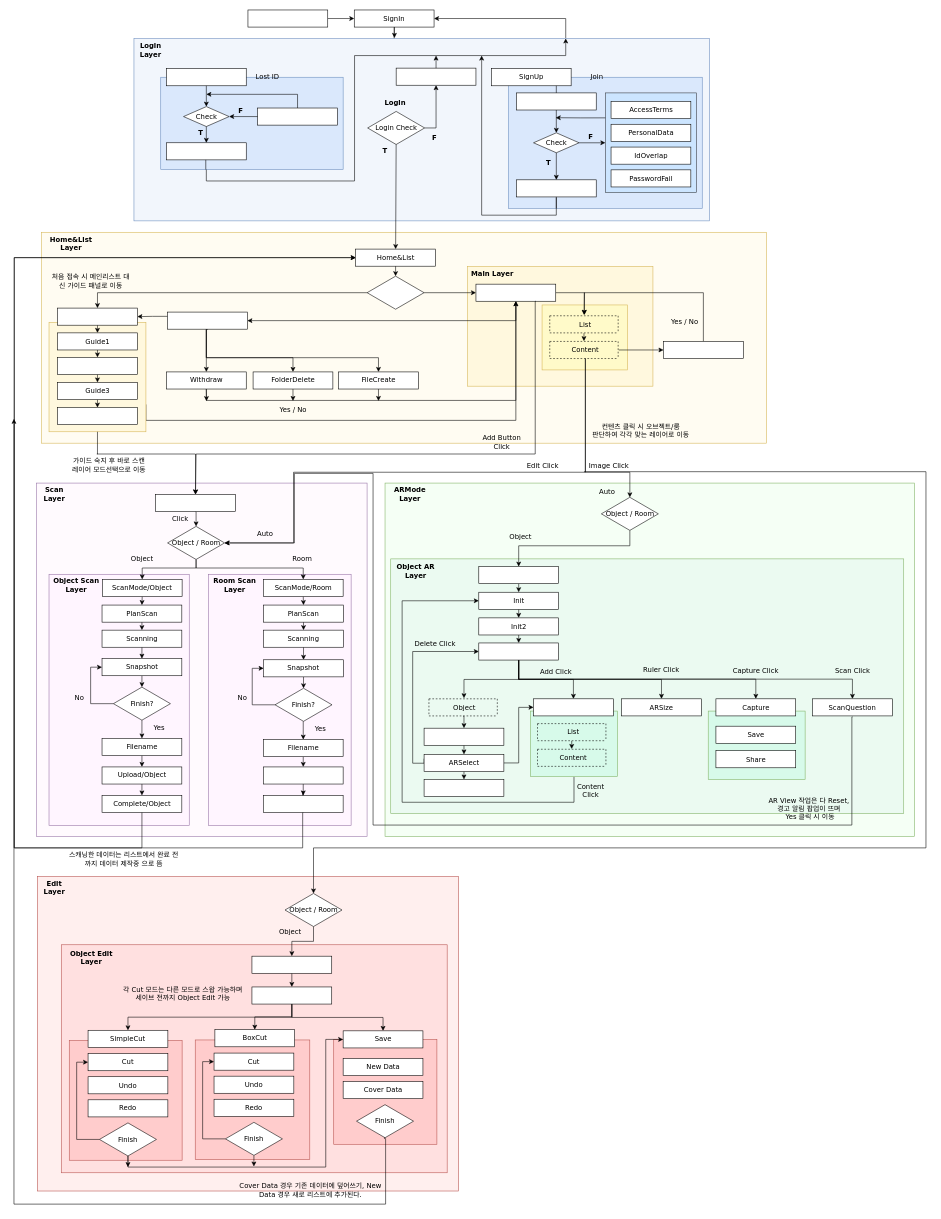
This 941x1219 diagram has some shape labels left out. Here are the shapes that lost their labels. From the top down, the box of each, then its label:
(247, 9, 328, 27): Splash Screen
(166, 68, 246, 86): IdPassCheck
(396, 68, 476, 85): IdPassFail
(257, 107, 337, 125): EmailFail
(516, 92, 596, 110): Step1
(166, 142, 246, 160): EmailSuccess
(516, 179, 596, 197): Step2
(367, 276, 424, 309): First Check
(475, 284, 556, 301): Main
(57, 308, 137, 325): Guide
(167, 312, 247, 329): SettingView
(57, 357, 137, 374): Guide2
(663, 341, 743, 359): DeleteQuestion
(57, 407, 137, 425): Guide4
(155, 494, 235, 512): ModeSelection
(478, 566, 559, 584): ARMode
(478, 642, 559, 660): Main&Normal
(533, 698, 613, 716): Category
(424, 728, 504, 745): ObjectControl
(263, 766, 343, 784): Upload/Room
(424, 779, 504, 797): EditQuestion
(263, 795, 343, 813): Complete/Room
(251, 956, 332, 973): ObjectEditMode
(251, 986, 332, 1004): Main&Nomal
